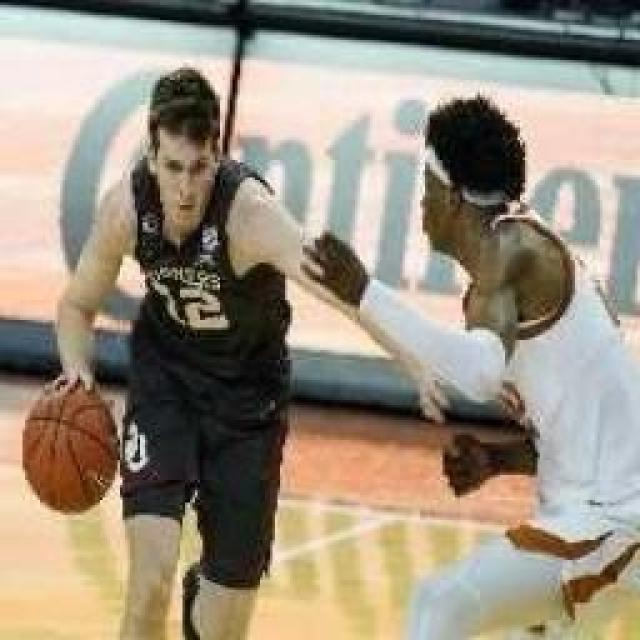ball: (20, 382, 120, 518)
person: (50, 60, 448, 640), (295, 85, 640, 637)
